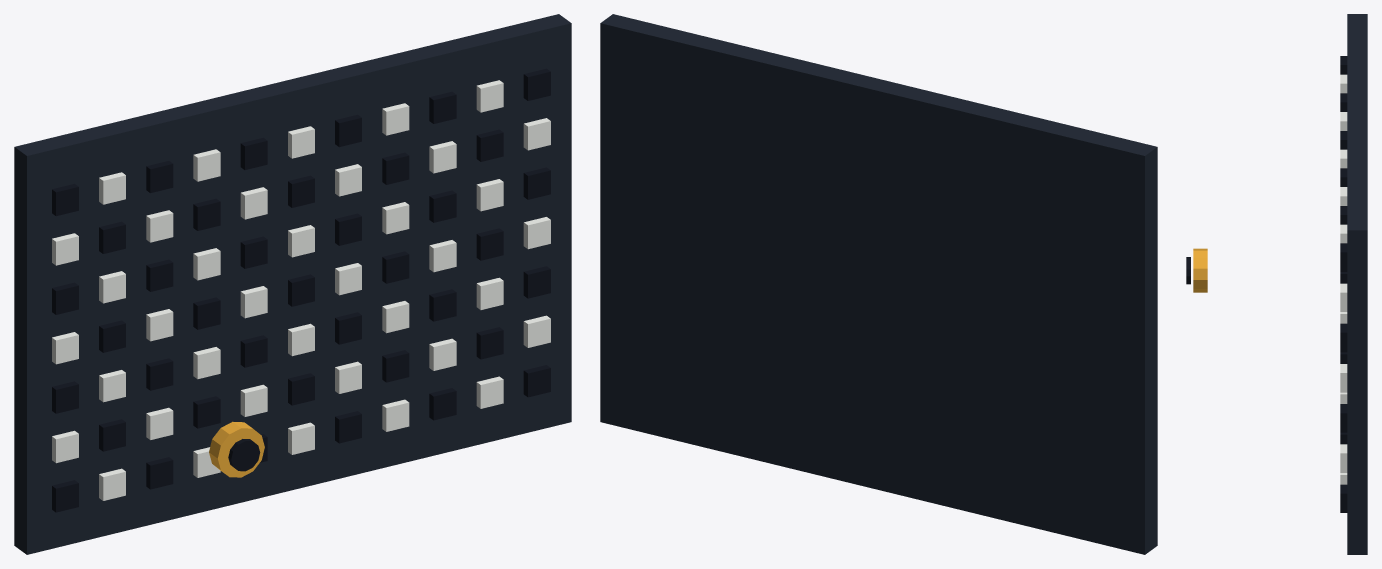
File: 26_L86_PrecisionVisionCalibrationBoard.fbx
3 renders of one model, left to right at view 1: azimuth 30°, elevation 25°; view 2: azimuth 150°, elevation 25°; view 3: azimuth 270°, elevation 25°, orthographic. The views are drawn at different scales.
Visible parts, largest first — view 1: L86_PrecisionVisionCalibrationBoard, L86_PrecisionVisionCalibrationBoard_Part_0007, L86_PrecisionVisionCalibrationBoard_Part_0008; view 2: L86_PrecisionVisionCalibrationBoard; view 3: L86_PrecisionVisionCalibrationBoard, L86_PrecisionVisionCalibrationBoard_Part_0007.
Boxes of the visible parts, left/top/right/bottom form: L86_PrecisionVisionCalibrationBoard: left=14, top=14, right=571, bottom=554; L86_PrecisionVisionCalibrationBoard_Part_0007: left=209, top=421, right=264, bottom=477; L86_PrecisionVisionCalibrationBoard_Part_0008: left=228, top=439, right=260, bottom=471; L86_PrecisionVisionCalibrationBoard: left=600, top=14, right=1157, bottom=554; L86_PrecisionVisionCalibrationBoard: left=1340, top=14, right=1367, bottom=554; L86_PrecisionVisionCalibrationBoard_Part_0007: left=1193, top=248, right=1207, bottom=292.
Bounding box in the file's own units: 150 × 105 × 53.2.
